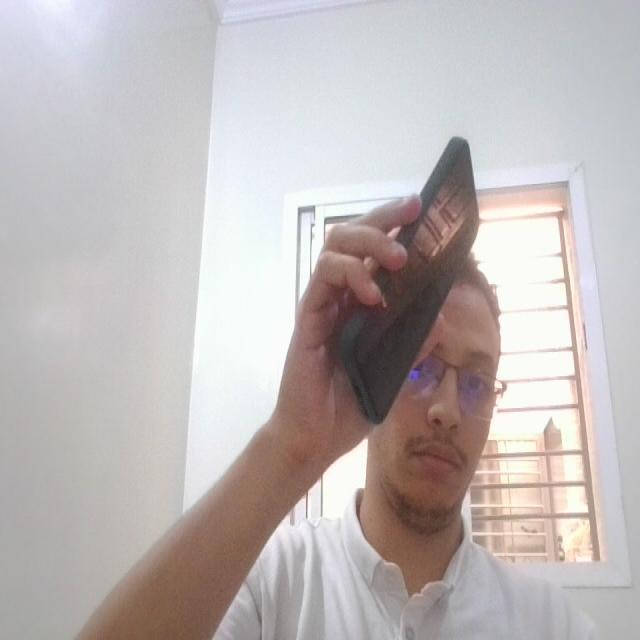phone: (329, 130, 492, 434)
